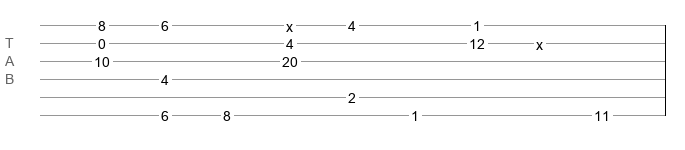0: (98, 36, 106, 46)
1: (411, 108, 419, 118), (473, 18, 481, 28)
10: (94, 54, 110, 64)
11: (594, 108, 610, 118)
12: (469, 36, 485, 46)
2: (348, 90, 356, 100)
20: (282, 54, 298, 64)
4: (161, 72, 169, 82), (286, 36, 294, 46), (348, 18, 356, 28)
6: (161, 18, 169, 28), (161, 108, 169, 118)
8: (98, 18, 106, 28), (223, 108, 231, 118)
x: (286, 19, 293, 27), (536, 37, 543, 45)
